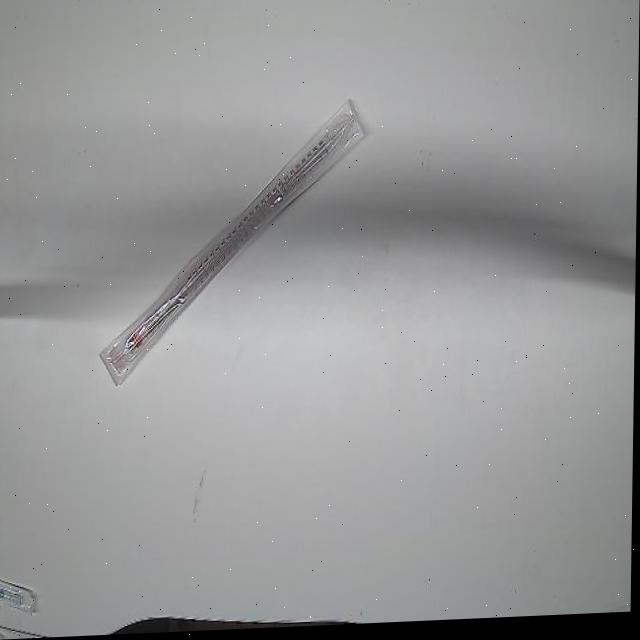Serelogical Pipet 25 mL - Sealed: (97, 98, 370, 395)
